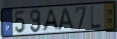5: (13, 10, 27, 35)
7: (74, 6, 88, 31)
9: (29, 9, 42, 35)
A: (57, 7, 76, 33), (41, 9, 60, 33)
L: (90, 5, 103, 30)
